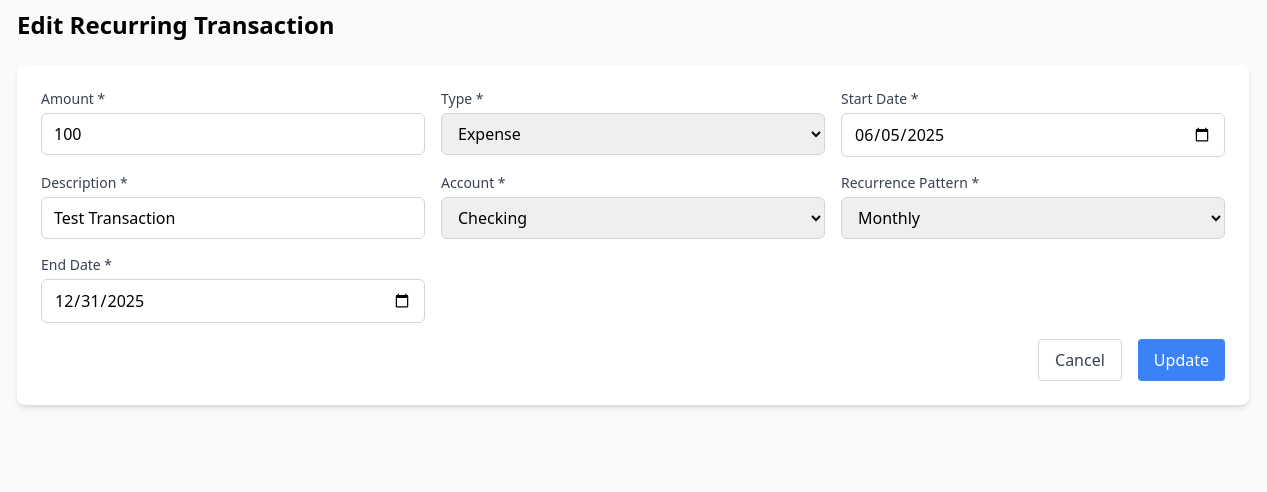
Test: TransactionsRecurringEdit Component › Form Submission › handles API errors gracefully
Check: the number field labelled "Amount *" holds "100", box [41,113,425,155]
# Submit form
Click the button "Update": click(1181, 360) [1138,339,1225,381]
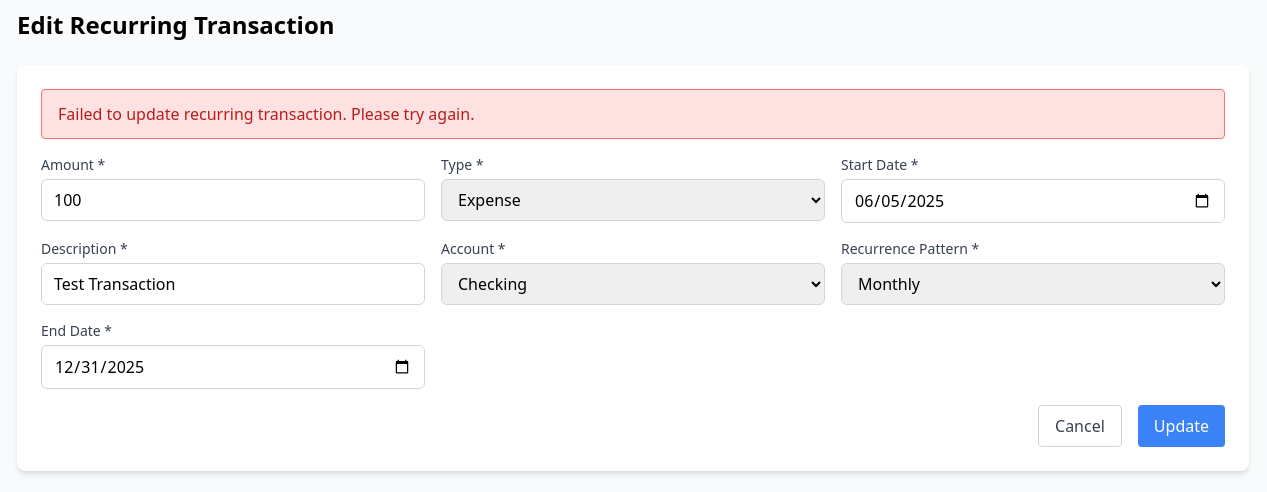
Check: the text "Failed to update recurring transaction. Please try again." is shown, box [41,89,1225,139]
